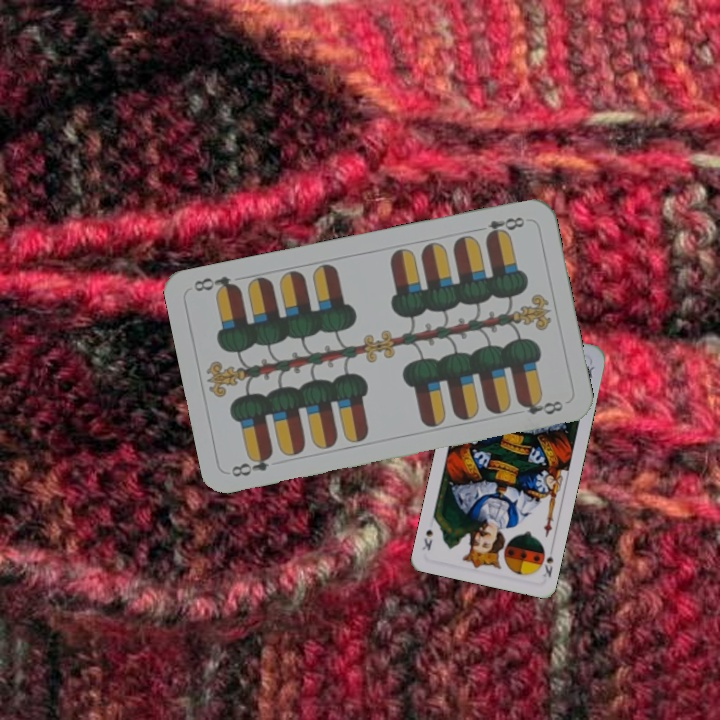E8: (472, 212, 527, 242), (227, 448, 275, 480)
SK: (538, 550, 556, 580)
